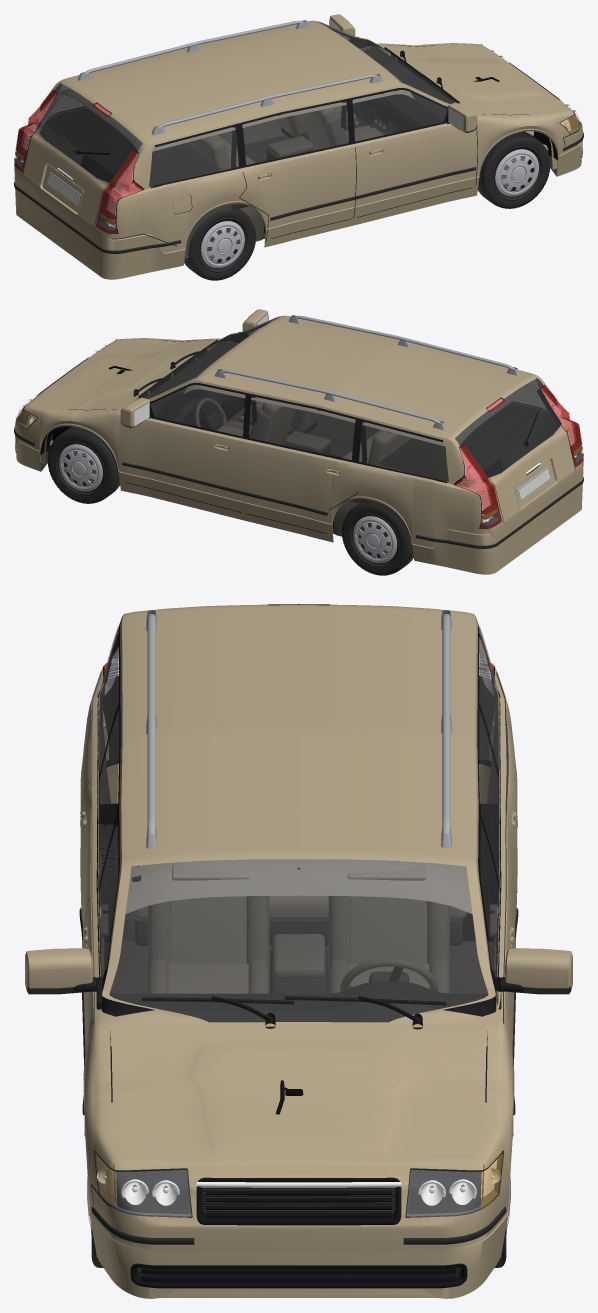
Rendered from wagon_studio.glb.
The picture shows the model from 3 angles, top to bottom: view 1: azimuth 30°, elevation 25°; view 2: azimuth 150°, elevation 25°; view 3: azimuth 270°, elevation 25°; orthographic projection. The views are drawn at different scales.
Parts seen in each view (by area): view 1: body, hood, wheel_fr, wheel_rr, lamp_tail, bay; view 2: body, hood, wheel_fl, wheel_rl, lamp_tail, bay; view 3: body, hood, lamp_head, bay, wheel_rr, lamp_amber.
Part boxes in pixels (bbox=[...]): body: bbox=[14, 14, 583, 279]; hood: bbox=[387, 45, 568, 115]; wheel_fr: bbox=[478, 131, 550, 208]; wheel_rr: bbox=[184, 208, 255, 280]; lamp_tail: bbox=[14, 90, 142, 233]; bay: bbox=[389, 52, 557, 169]; body: bbox=[14, 309, 583, 574]; hood: bbox=[29, 340, 210, 410]; wheel_fl: bbox=[47, 426, 119, 503]; wheel_rl: bbox=[342, 503, 413, 575]; lamp_tail: bbox=[455, 385, 583, 528]; bay: bbox=[40, 348, 208, 464]; body: bbox=[25, 604, 572, 1298]; hood: bbox=[110, 1029, 487, 1162]; lamp_head: bbox=[116, 1170, 481, 1217]; bay: bbox=[202, 1079, 395, 1213]; wheel_rr: bbox=[99, 824, 134, 941]; lamp_amber: bbox=[95, 1153, 502, 1208].
Size of the model in its own units: 4.74 by 1.48 by 2.31.
